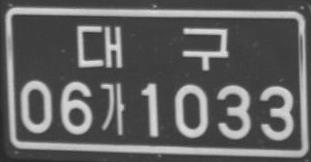0: (174, 83, 209, 137), (19, 78, 51, 134)
1: (137, 82, 167, 136)
3: (259, 85, 295, 141), (217, 83, 251, 141)
6: (59, 79, 93, 134)
가: (99, 82, 125, 136)
대구_D: (76, 24, 228, 71)
